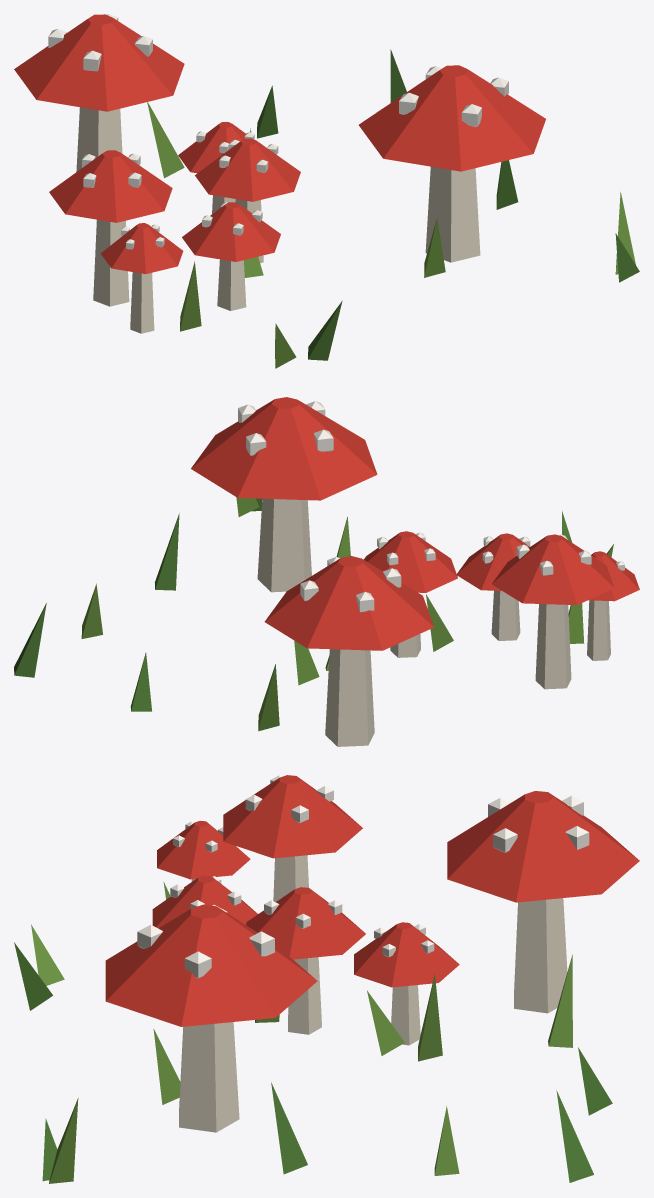
File: mushroom_ring_2.glb
The picture shows the model from 3 angles, top to bottom: view 1: azimuth 30°, elevation 25°; view 2: azimuth 150°, elevation 25°; view 3: azimuth 270°, elevation 25°; orthographic projection. The views are drawn at different scales.
Parts seen in each view (by area): view 1: scatter_mushrooms_red; view 2: scatter_mushrooms_red; view 3: scatter_mushrooms_red.
Boxes of the visible parts, box(x1,y1,x2,y2) form: scatter_mushrooms_red: box(14, 14, 639, 368); scatter_mushrooms_red: box(14, 397, 639, 746); scatter_mushrooms_red: box(14, 775, 639, 1183).
Size of the model in its own units: 1.34 by 0.4962 by 1.32.
